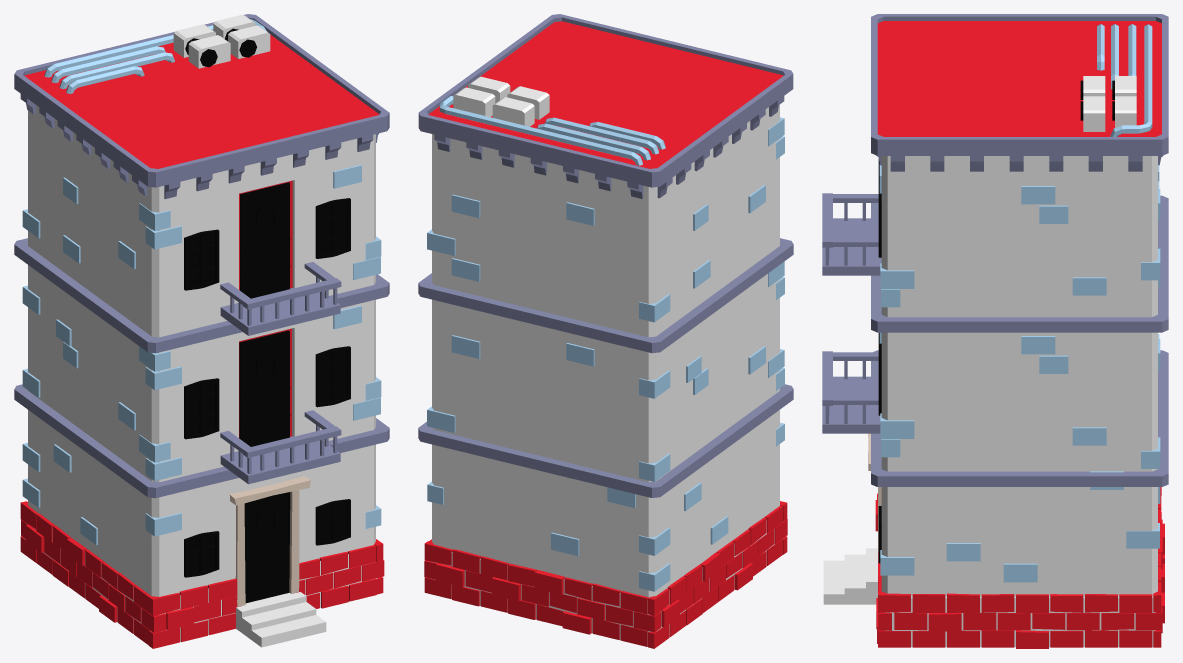
The model's file is building_quaternius_3Story_Balcony.glb.
The picture shows the model from 3 angles, left to right: view 1: azimuth 30°, elevation 25°; view 2: azimuth 150°, elevation 25°; view 3: azimuth 270°, elevation 25°; orthographic projection. The views are drawn at different scales.
Bounding box in the file's own units: 2.16 × 4.21 × 2.51.
1 material, 1 textured.
